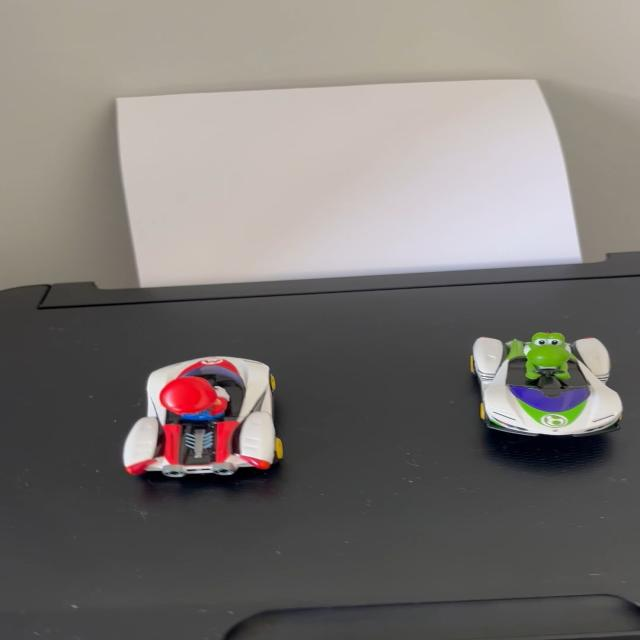mario: (107, 346, 298, 491)
yoshi: (459, 318, 634, 446)
